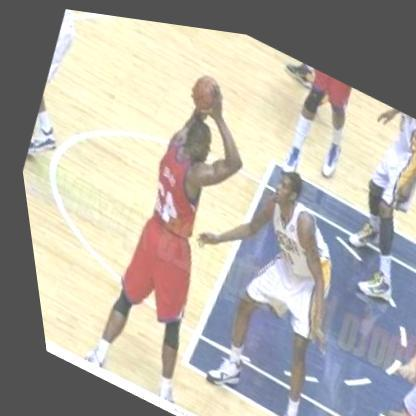basketball: (178, 56, 231, 116)
